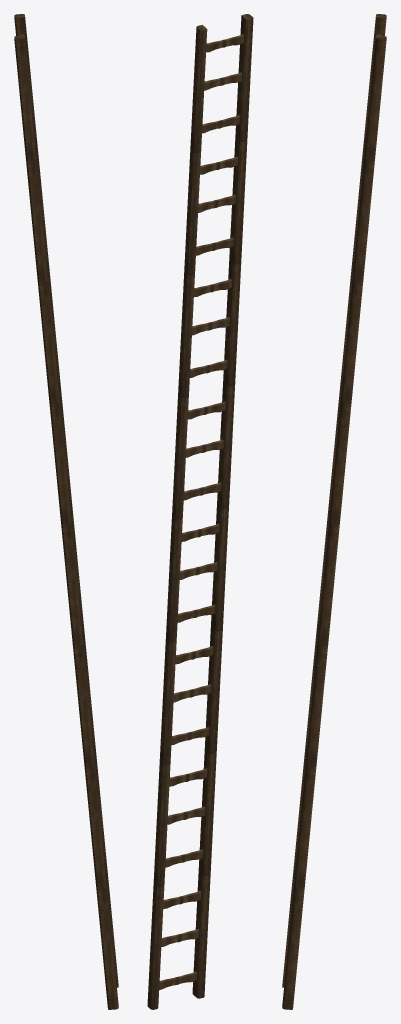
3 renders of one model, left to right at view 1: azimuth 90°, elevation 25°; view 2: azimuth 210°, elevation 25°; view 3: azimuth 270°, elevation 25°, orthographic. The views are drawn at different scales.
Visible parts, largest first — view 1: Cube191_atlas_puertas_0; view 2: Cube191_atlas_puertas_0; view 3: Cube191_atlas_puertas_0.
Part boxes in pixels (x1,y1,x2,y2): Cube191_atlas_puertas_0: [14, 14, 118, 1009]; Cube191_atlas_puertas_0: [147, 14, 253, 1009]; Cube191_atlas_puertas_0: [282, 14, 386, 1009].
Size of the model in its own units: 0.44 by 7.98 by 0.7769.
Materials: 1 (1 with a texture image).
